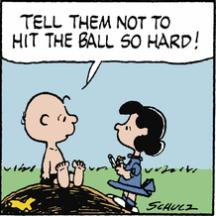charlie: (22, 91, 86, 189)
